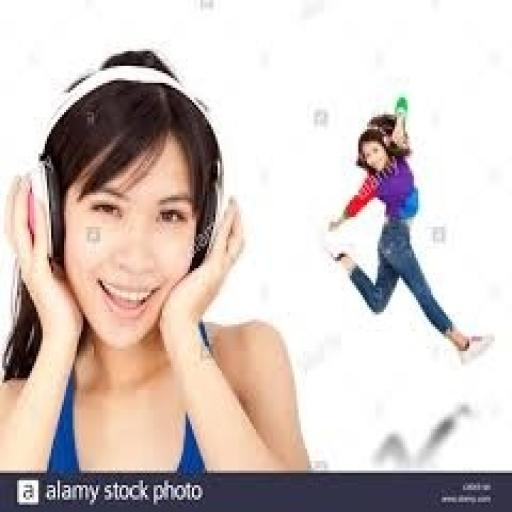listening_to_music: (0, 46, 314, 476)
